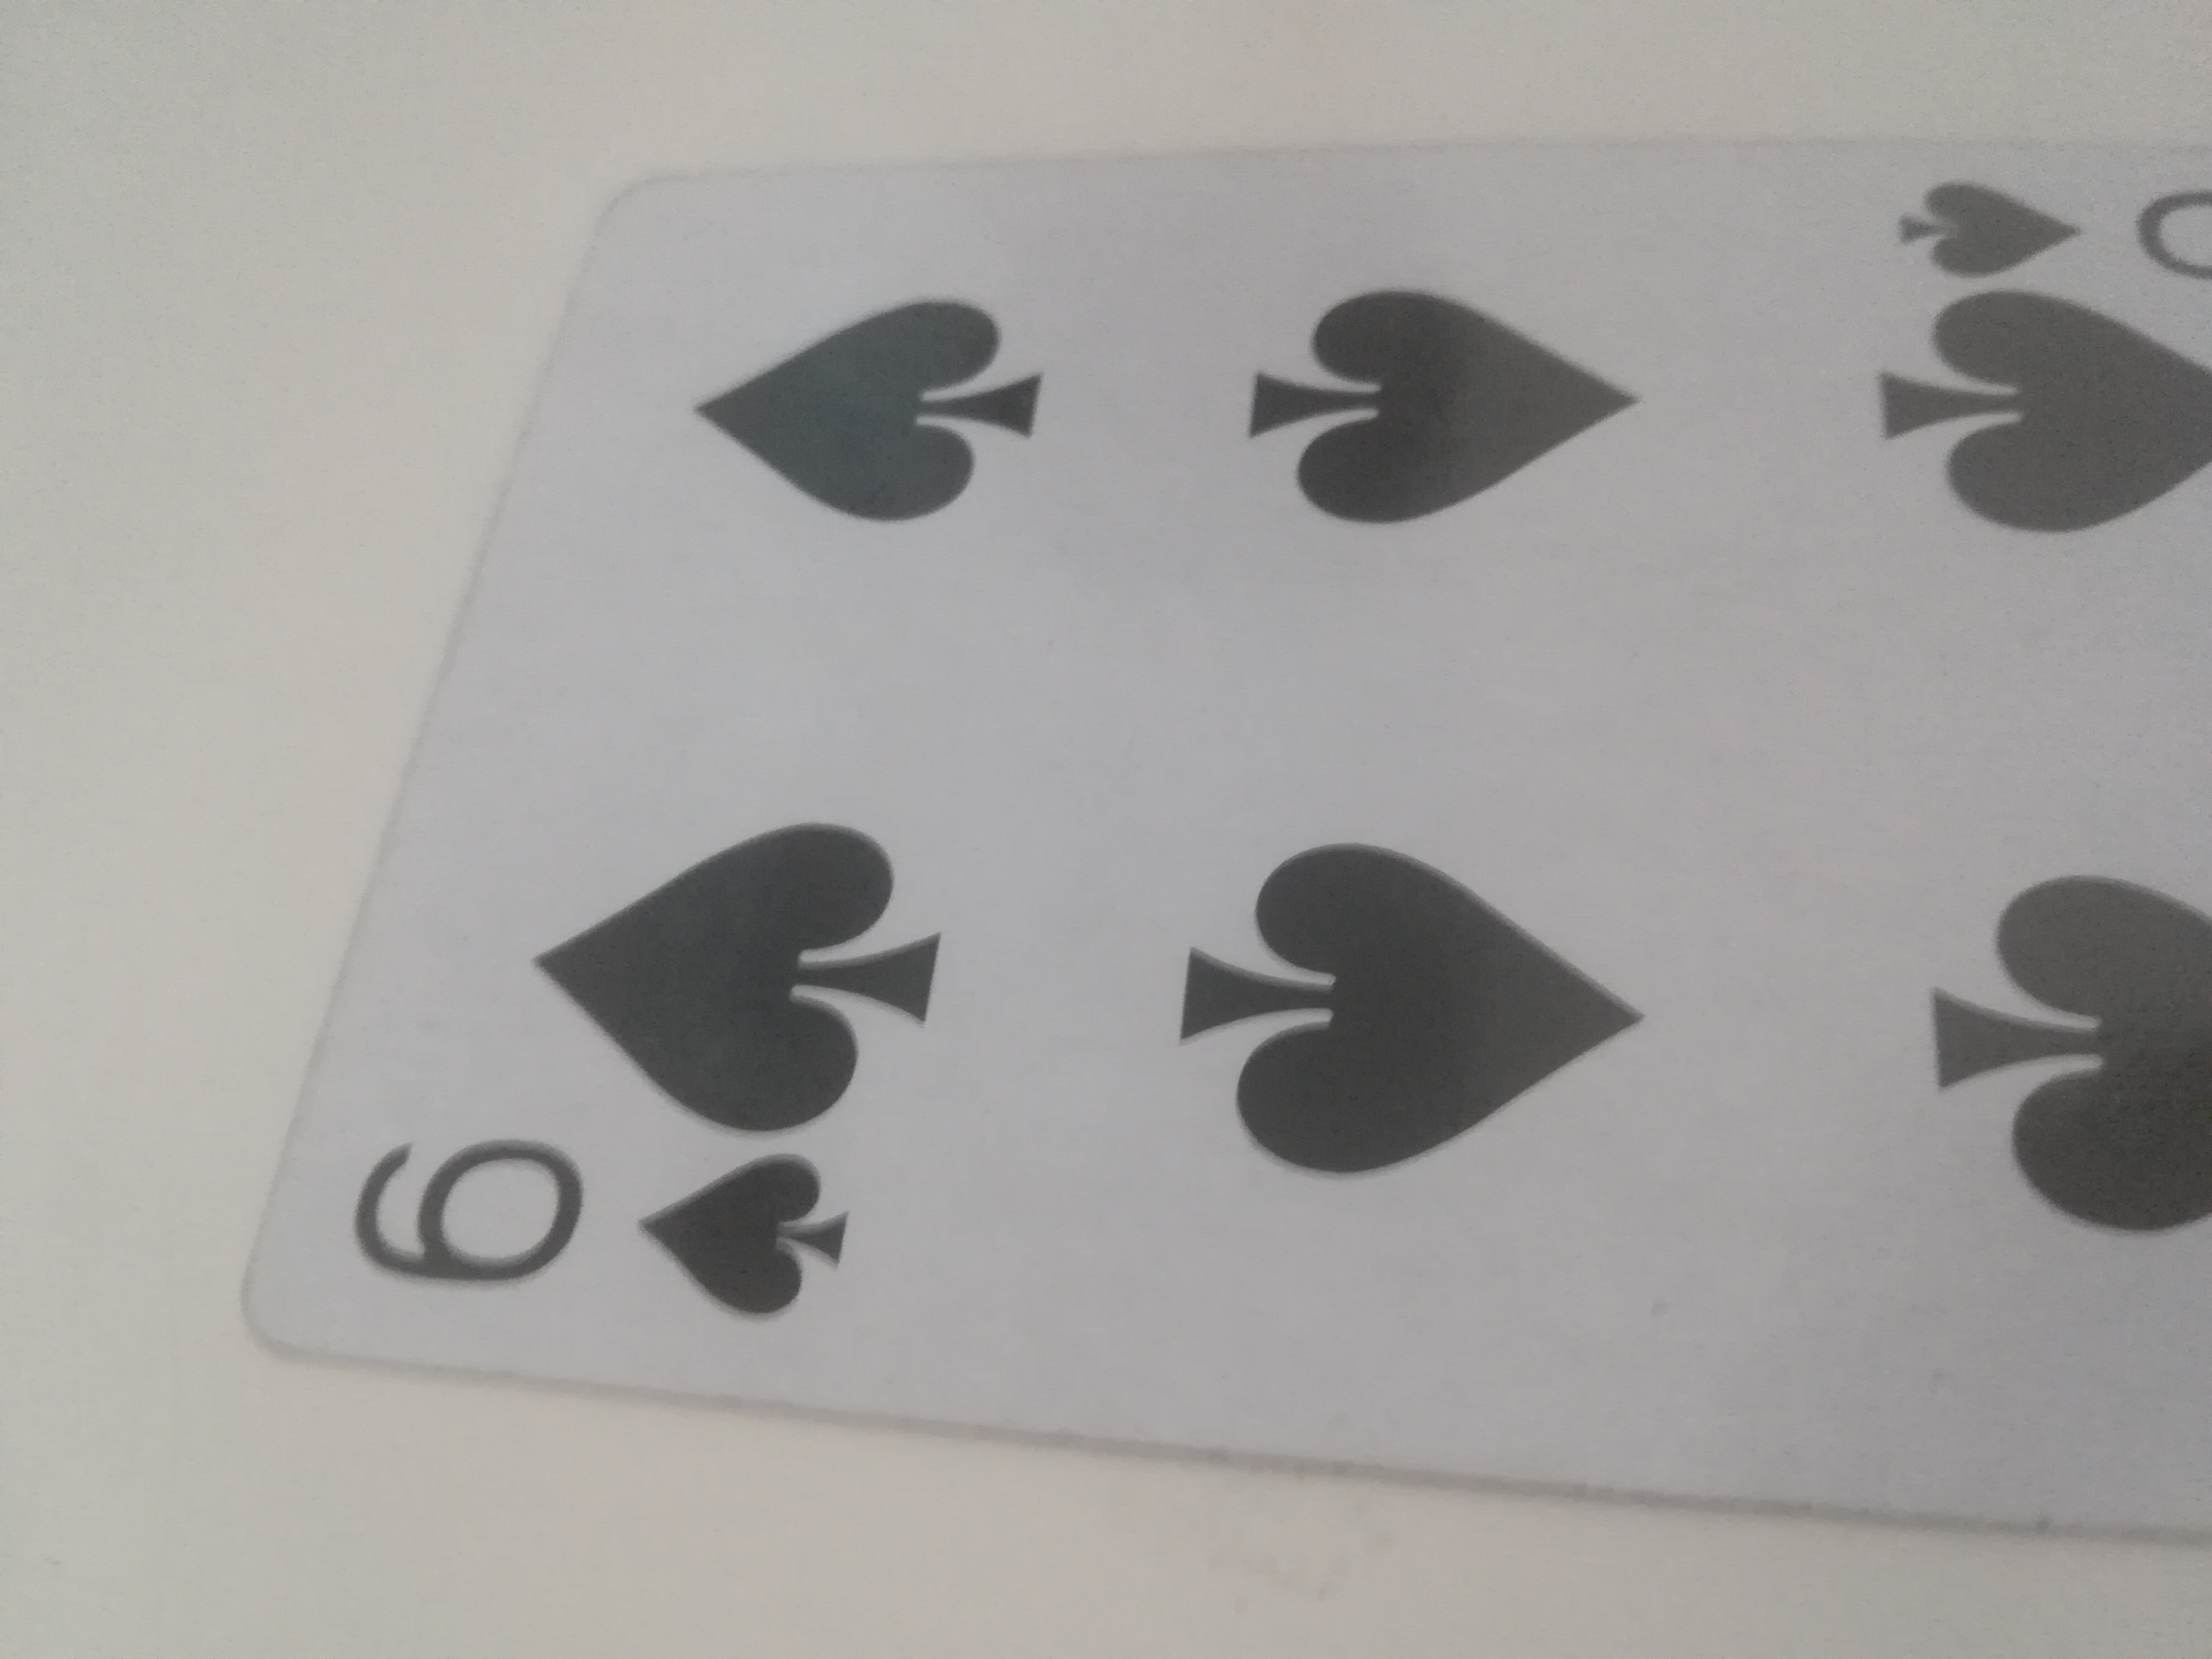6S: (226, 148, 2212, 1568)
